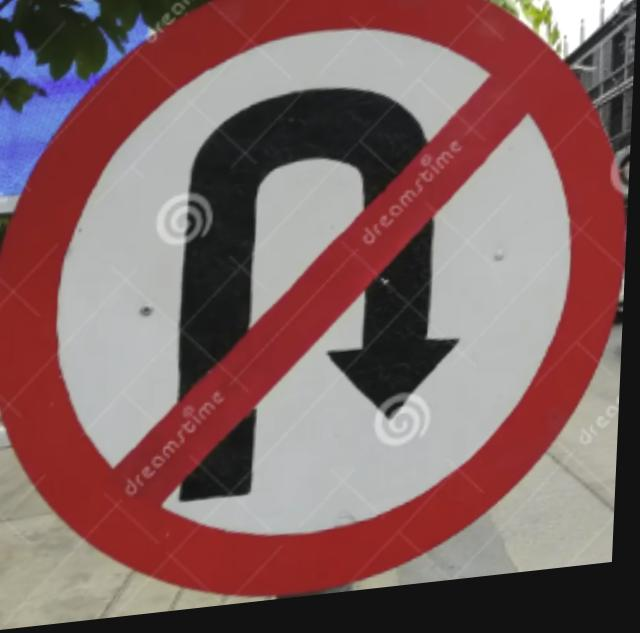not_u_turn_right: (0, 0, 632, 622)
